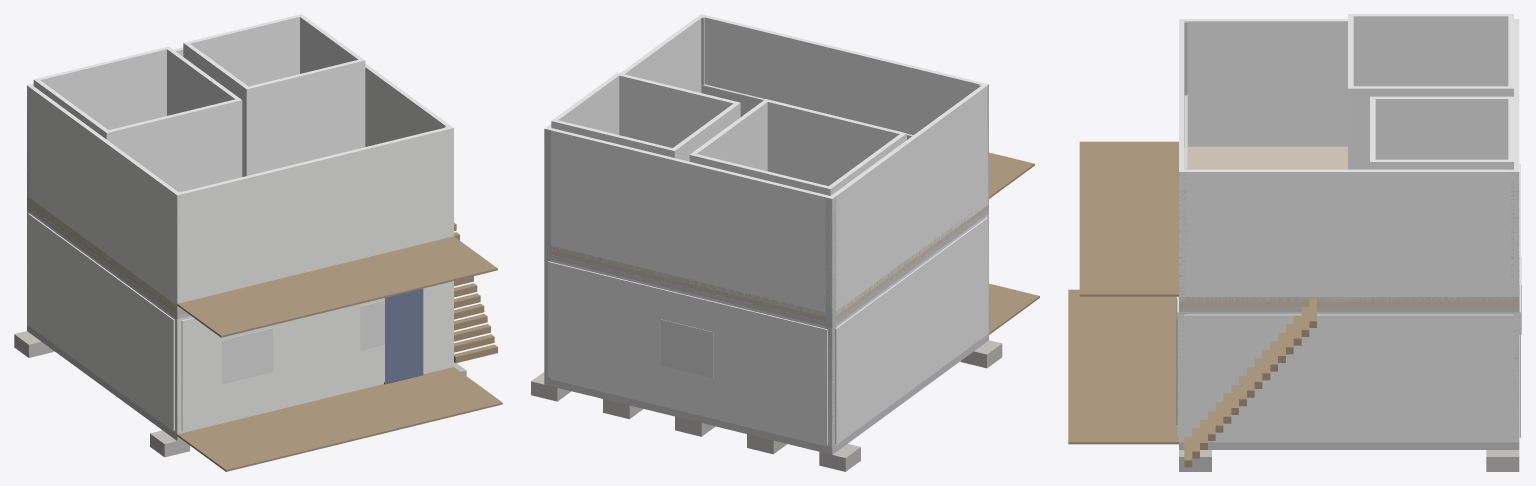
The model's file is Duplex-20-TerraceDeck-LOD2.glb.
3 views of the same model, side by side, from view 1: azimuth 30°, elevation 25°; view 2: azimuth 150°, elevation 25°; view 3: azimuth 270°, elevation 25° (orthographic). The views are drawn at different scales.
Visible parts, largest first — view 1: ExteriorShellUpper, ExteriorPanelsStandard, StudyUpper, BedroomUpper, BalconyUpper, BalconyGround, TerraceDeck, WindowsStandard, EntryDoor, StaircaseExternal, ExteriorShell, FloorUpper (+3 smaller); view 2: ExteriorShellUpper, ExteriorPanelsStandard, BedroomUpper, StudyUpper, VerticalStructure, FloorUpper, FoundationBlocks, BaseFrame, ExteriorShell, WindowsStandard, TopFrame, TerraceDeck (+2 smaller); view 3: ExteriorShellUpper, ExteriorPanelsStandard, TerraceDeck, BalconyUpper, BedroomUpper, StudyUpper, FloorUpper, BalconyGround, StaircaseExternal, ExteriorShell, BaseFrame, TopFrame (+2 smaller).
Boxes of the visible parts, x1,y1,x2,y2 form: ExteriorShellUpper: (27, 47, 453, 310); ExteriorPanelsStandard: (28, 213, 450, 431); StudyUpper: (183, 14, 365, 176); BedroomUpper: (33, 46, 242, 191); BalconyUpper: (177, 236, 497, 337); BalconyGround: (178, 367, 453, 462); TerraceDeck: (177, 367, 502, 471); WindowsStandard: (222, 300, 384, 384); EntryDoor: (384, 288, 423, 384); StaircaseExternal: (454, 223, 497, 363); ExteriorShell: (27, 209, 453, 434); FloorUpper: (27, 196, 186, 314); ExteriorShellUpper: (544, 14, 988, 317); ExteriorPanelsStandard: (548, 217, 987, 444); BedroomUpper: (689, 99, 906, 195); StudyUpper: (551, 72, 740, 161); VerticalStructure: (544, 17, 988, 447); FloorUpper: (544, 205, 987, 322); FoundationBlocks: (531, 340, 1002, 471); BaseFrame: (544, 333, 988, 454); ExteriorShell: (551, 214, 988, 447); WindowsStandard: (661, 319, 713, 378); TopFrame: (551, 212, 985, 326); TerraceDeck: (989, 283, 1039, 334); ExteriorShellUpper: (1179, 19, 1519, 302); ExteriorPanelsStandard: (1177, 164, 1520, 440); TerraceDeck: (1068, 289, 1178, 444); BalconyUpper: (1079, 141, 1178, 296); BedroomUpper: (1348, 14, 1513, 169); StudyUpper: (1370, 96, 1513, 169); FloorUpper: (1179, 146, 1519, 307); BalconyGround: (1096, 296, 1178, 444); StaircaseExternal: (1184, 298, 1316, 467); ExteriorShell: (1179, 312, 1519, 442); BaseFrame: (1179, 442, 1519, 449); TopFrame: (1179, 307, 1519, 312).
Size of the model in its own units: 7.94 by 6 by 8.2.
